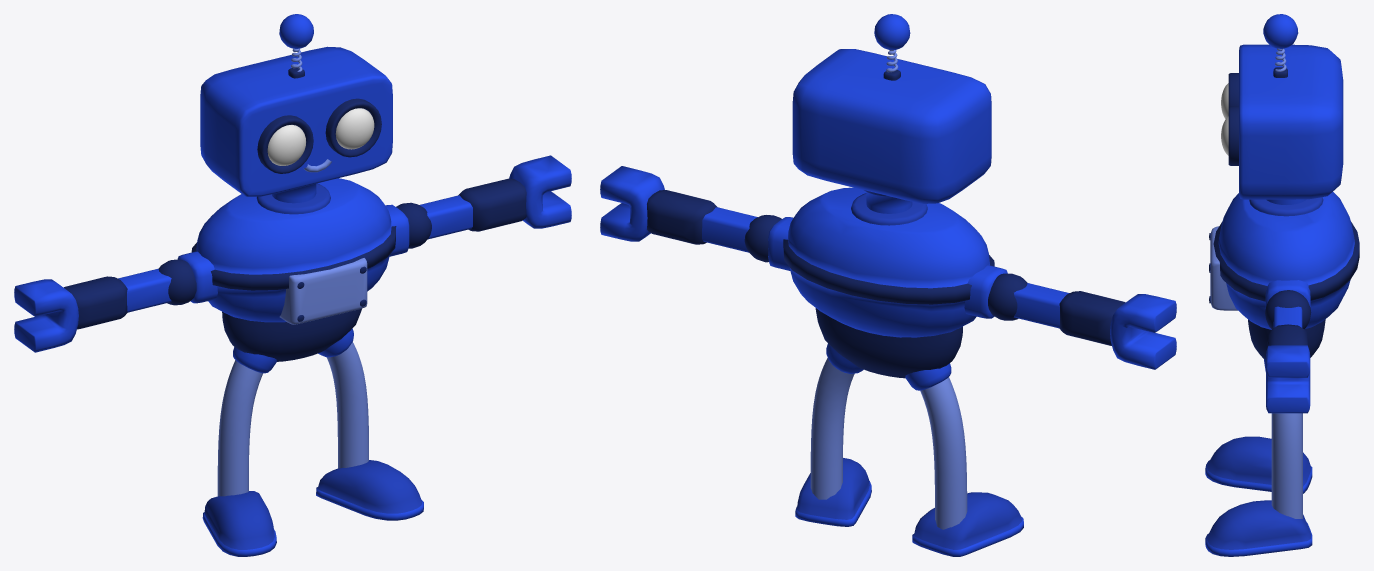
Rendered from robot-transformed.glb.
The picture shows the model from 3 angles, left to right: view 1: azimuth 30°, elevation 25°; view 2: azimuth 150°, elevation 25°; view 3: azimuth 270°, elevation 25°; orthographic projection. The views are drawn at different scales.
Visible parts, largest first — view 1: Robot; view 2: Robot; view 3: Robot.
Part boxes in pixels (<box>): Robot: <box>14,14,571,556</box>; Robot: <box>600,14,1176,556</box>; Robot: <box>1205,14,1359,556</box>.
Size of the model in its own units: 2.78 by 2.45 by 0.6947.
